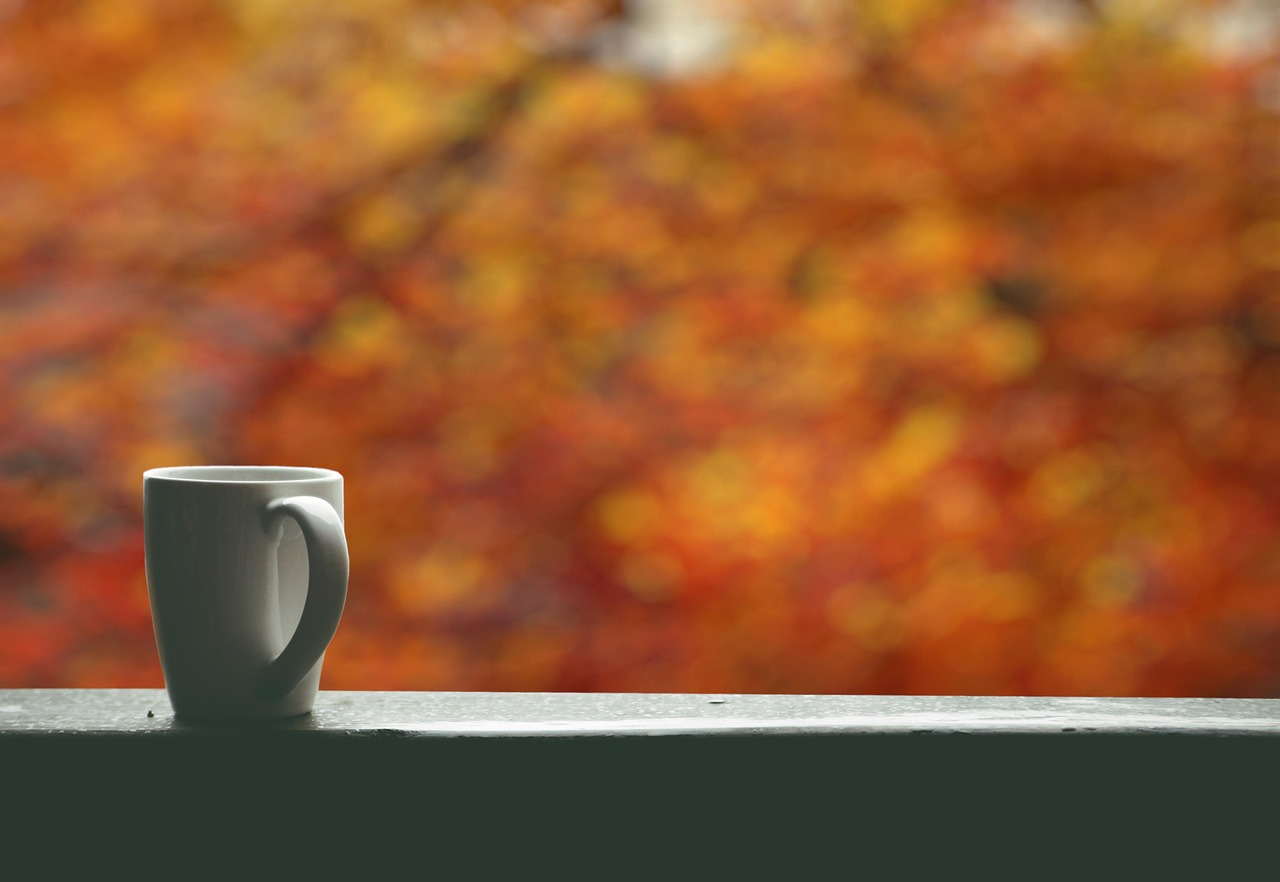mug: (112, 428, 411, 737)
